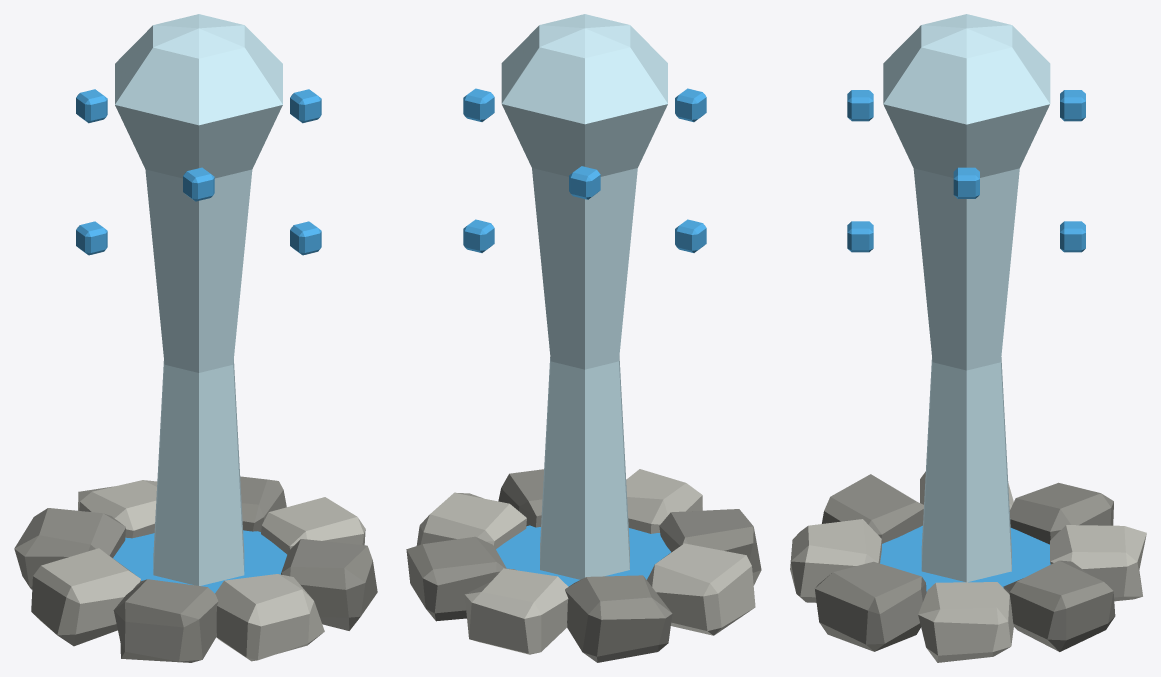
The model's file is Geyser.fbx.
The picture shows the model from 3 angles, left to right: view 1: azimuth 30°, elevation 25°; view 2: azimuth 150°, elevation 25°; view 3: azimuth 270°, elevation 25°; orthographic projection.
Parts seen in each view (by area): view 1: Geyser; view 2: Geyser; view 3: Geyser.
Boxes of the visible parts, box(x1,y1,x2,y2) form: Geyser: box(14, 14, 377, 662); Geyser: box(406, 14, 761, 662); Geyser: box(790, 14, 1146, 662).
Bounding box in the file's own units: 4.11 × 7.16 × 4.07.
1 material, 1 textured.
